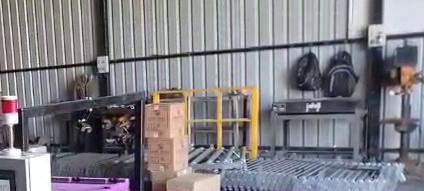box: (52, 177, 128, 190)
